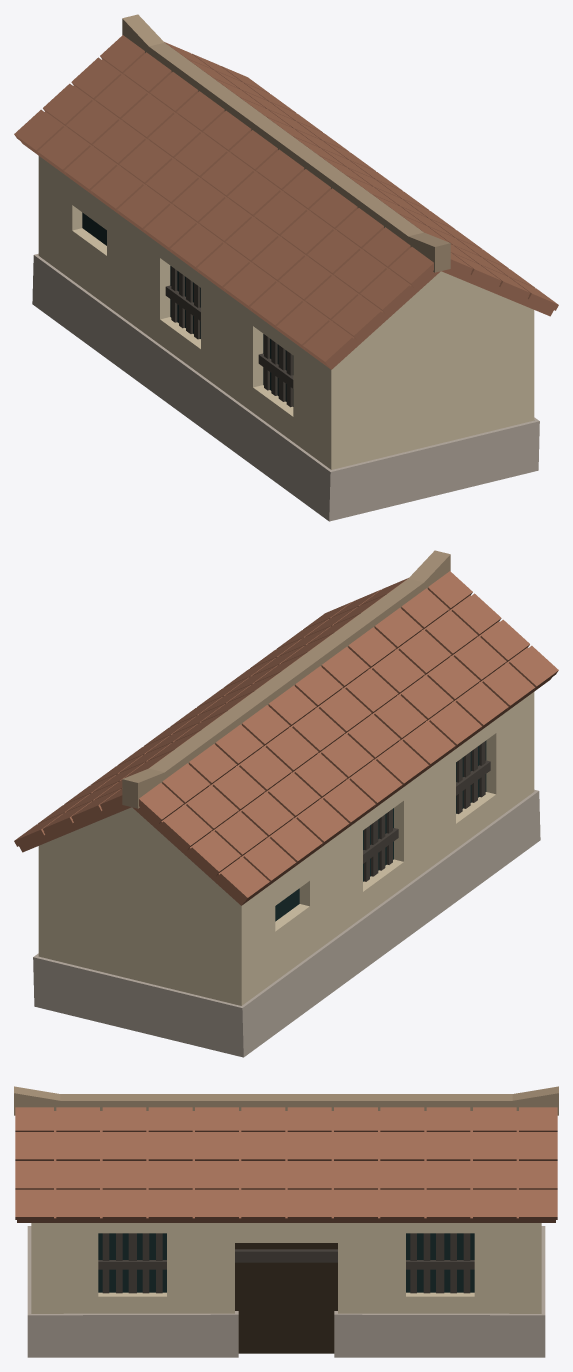
The model's file is Building_mode_L2_Northhouse010.fbx.
The picture shows the model from 3 angles, top to bottom: view 1: azimuth 30°, elevation 25°; view 2: azimuth 150°, elevation 25°; view 3: azimuth 270°, elevation 25°; orthographic projection. The views are drawn at different scales.
Parts seen in each view (by area): view 1: Building_mode_L2_Northhouse010; view 2: Building_mode_L2_Northhouse010; view 3: Building_mode_L2_Northhouse010.
Part boxes in pixels (bbox=[...]): Building_mode_L2_Northhouse010: bbox=[14, 14, 558, 521]; Building_mode_L2_Northhouse010: bbox=[14, 550, 558, 1057]; Building_mode_L2_Northhouse010: bbox=[14, 1086, 558, 1357].
Bounding box in the file's own units: 2.79 × 2.93 × 6.47.
